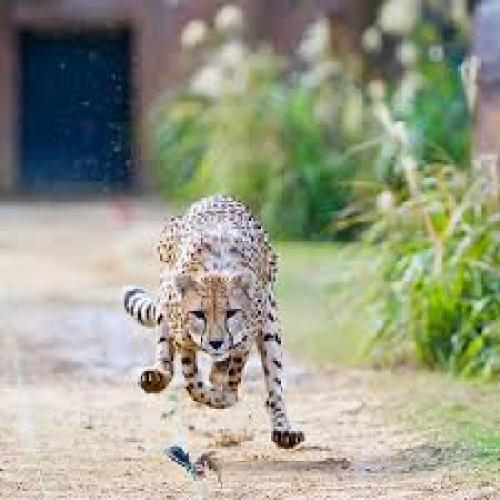cheetah-endangered: (123, 194, 308, 450)
